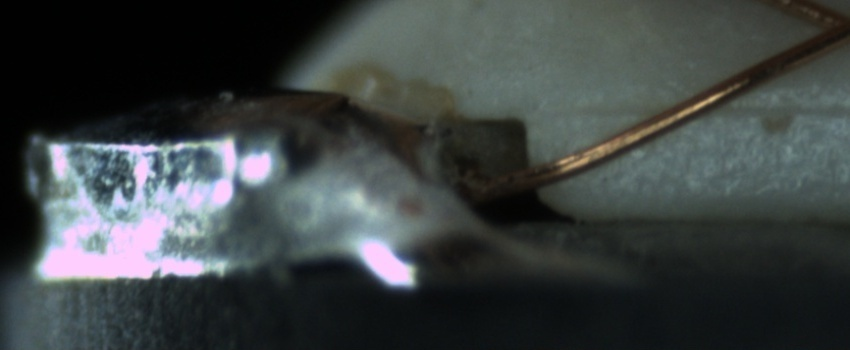CL: (794, 2, 850, 58)
DL: (560, 79, 847, 141)
